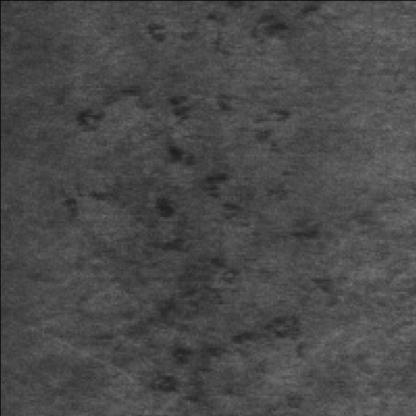rolled-in_scale: (119, 19, 266, 364)
